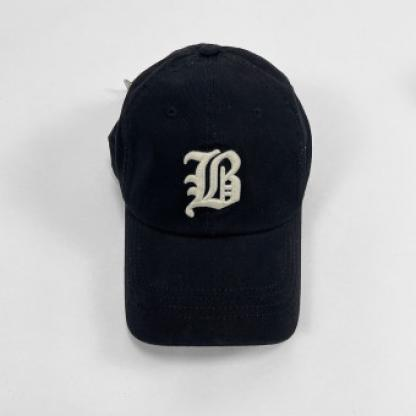cap: (99, 32, 319, 355)
